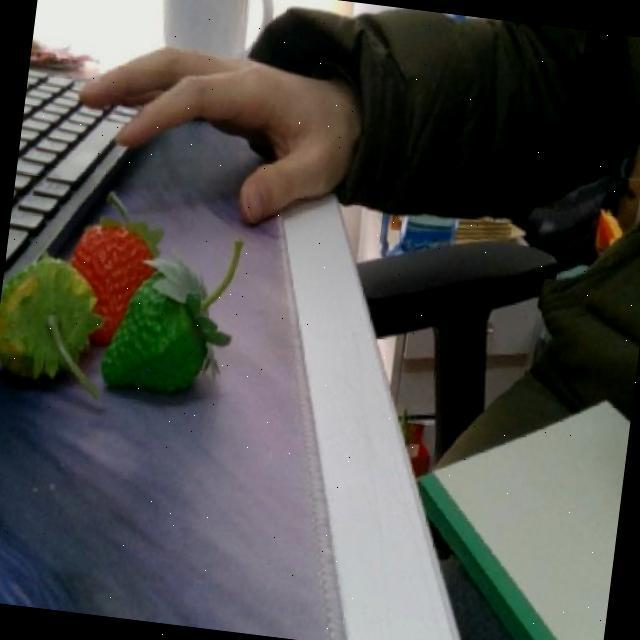ripe: (66, 208, 162, 350)
unripe: (98, 263, 216, 400), (0, 252, 95, 389)
